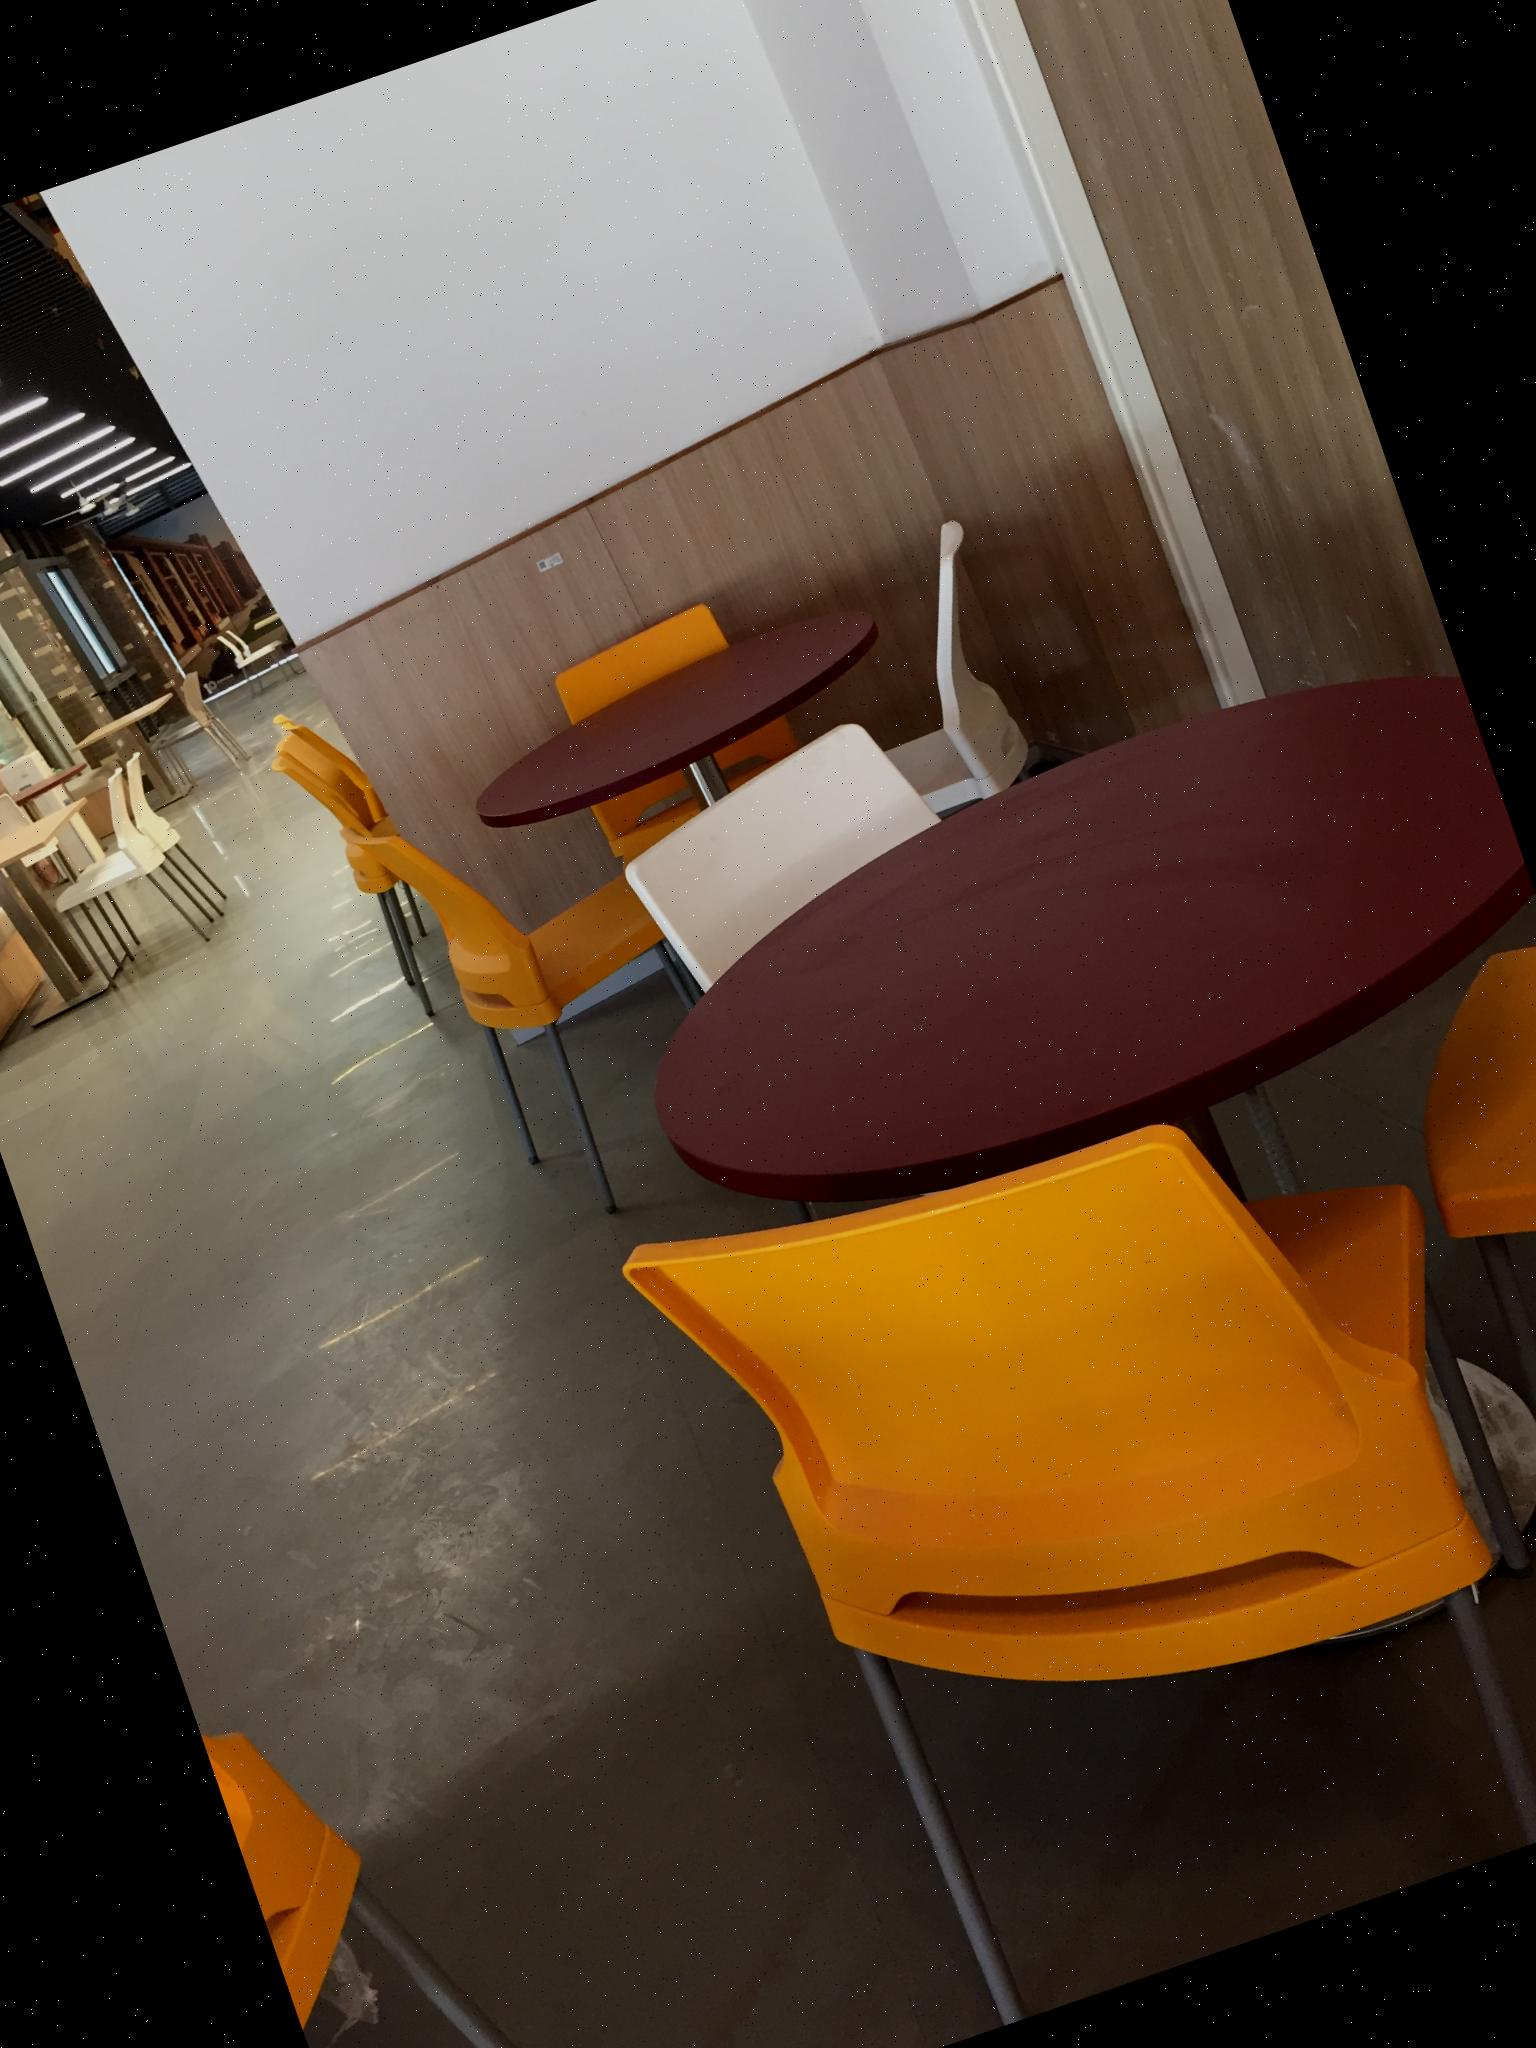chair: (613, 997, 1536, 2048), (340, 742, 755, 1256), (187, 1605, 637, 2048), (1363, 934, 1536, 1588), (597, 690, 970, 993), (537, 585, 816, 864), (820, 516, 1049, 826), (260, 711, 455, 1039), (8, 755, 239, 989), (18, 755, 216, 998), (208, 603, 300, 703)
